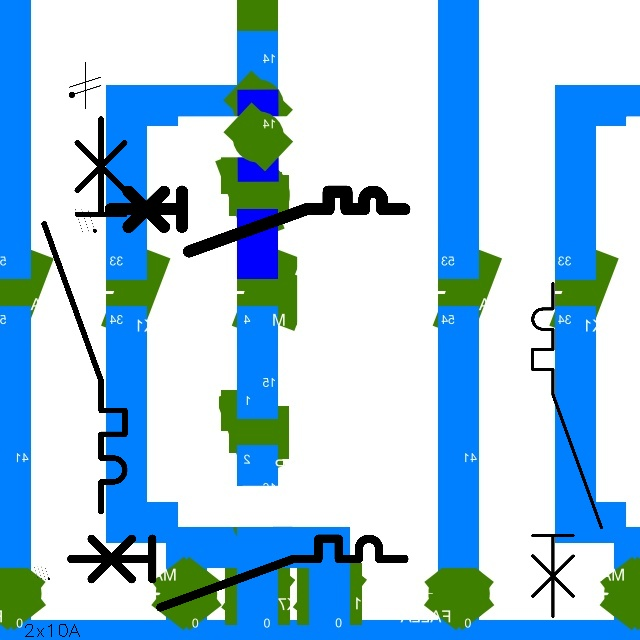interruptor_termomagnetico: (34, 108, 135, 521), (62, 530, 412, 615), (524, 275, 609, 625), (102, 184, 411, 259)
